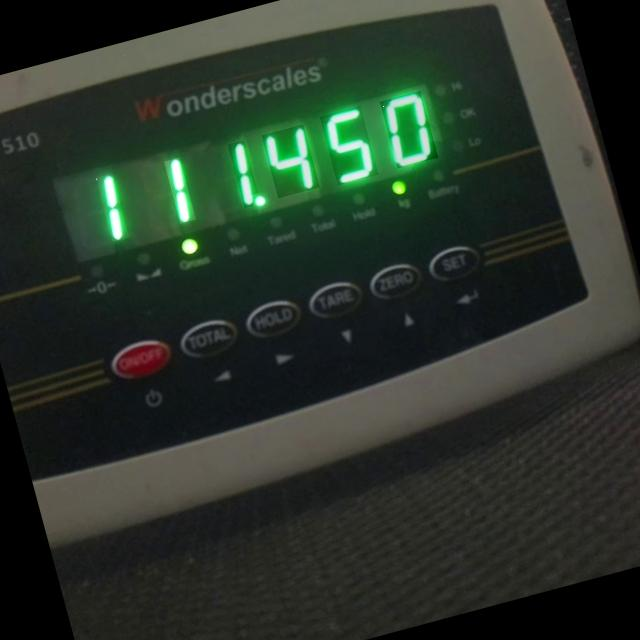.: (250, 190, 271, 210)
0: (379, 90, 438, 168)
1: (96, 174, 130, 242), (163, 157, 196, 223), (228, 140, 260, 208)
4: (262, 124, 320, 198)
5: (319, 106, 378, 184)
